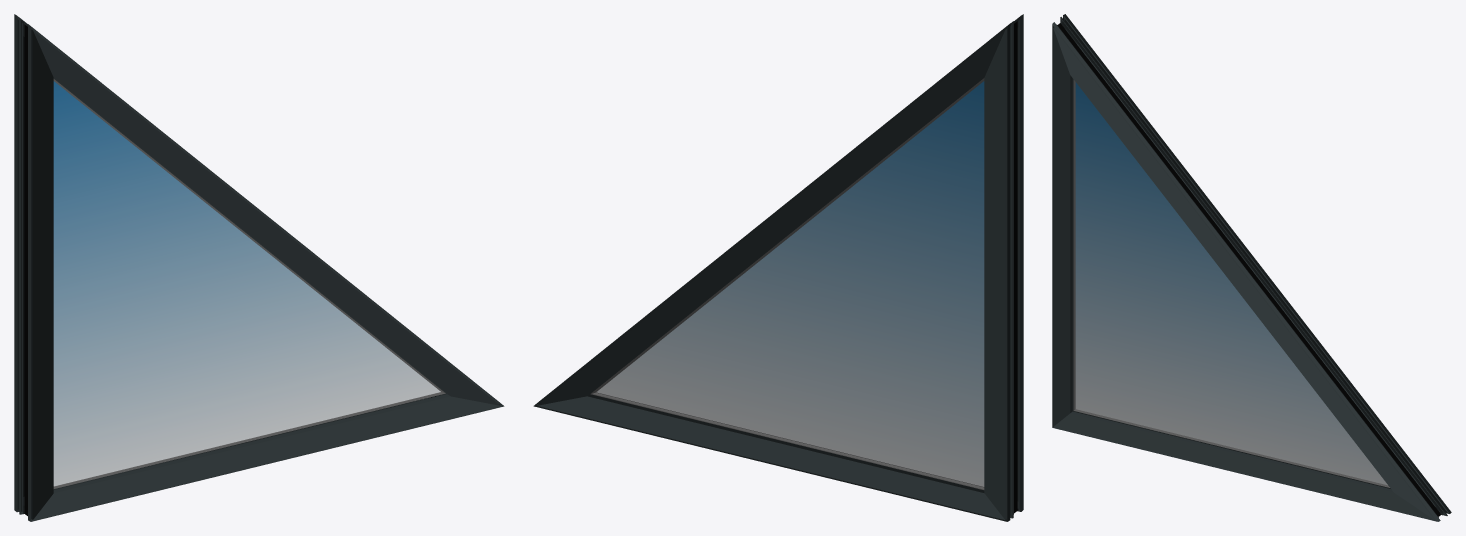
The picture shows the model from 3 angles, left to right: view 1: azimuth 30°, elevation 25°; view 2: azimuth 150°, elevation 25°; view 3: azimuth 330°, elevation 25°; orthographic projection. The views are drawn at different scales.
Visible parts, largest first — view 1: vidro, fixe_triangle; view 2: vidro, fixe_triangle; view 3: vidro, fixe_triangle.
Part boxes in pixels (left/top/right/bottom): vidro: left=53, top=81, right=440, bottom=486; fixe_triangle: left=14, top=14, right=504, bottom=521; vidro: left=596, top=81, right=984, bottom=486; fixe_triangle: left=533, top=14, right=1023, bottom=521; vidro: left=1075, top=82, right=1387, bottom=485; fixe_triangle: left=1052, top=14, right=1451, bottom=521.
Bounding box in the file's own units: 100 × 100 × 6.3.
1 material, 1 textured.
